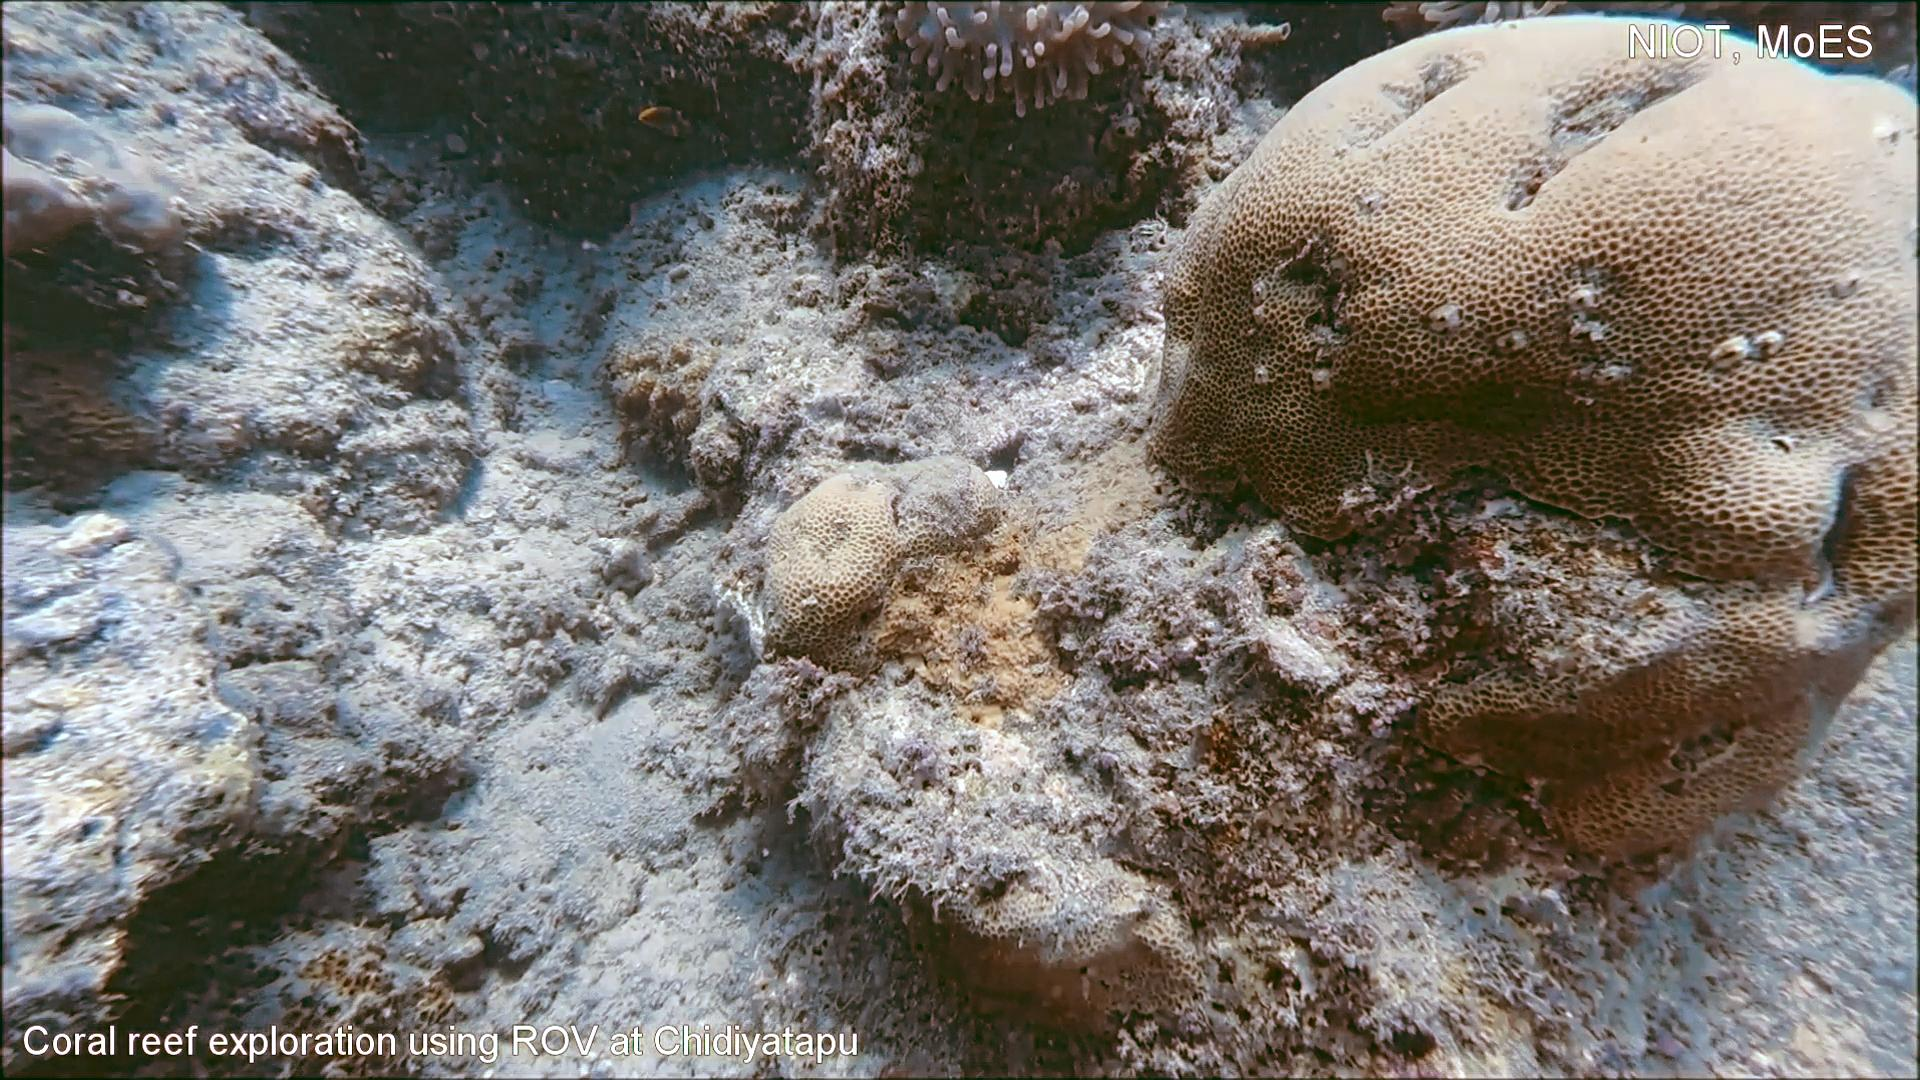Macrodactyla doreensis-Long tentacle Anemone: (880, 0, 1183, 125), (1360, 0, 1580, 37)
